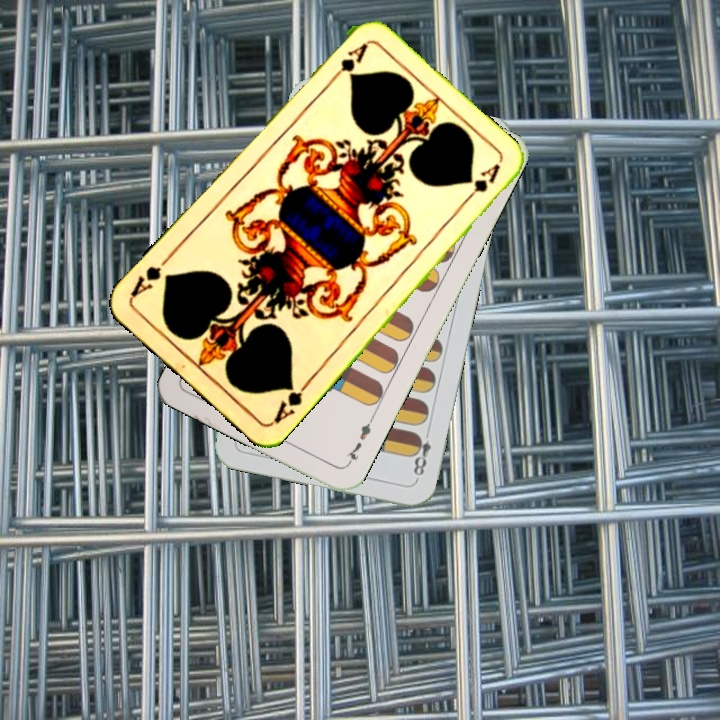E7: (341, 414, 376, 469)
E8: (408, 424, 434, 483)
GA: (325, 39, 371, 87), (268, 377, 312, 427)
